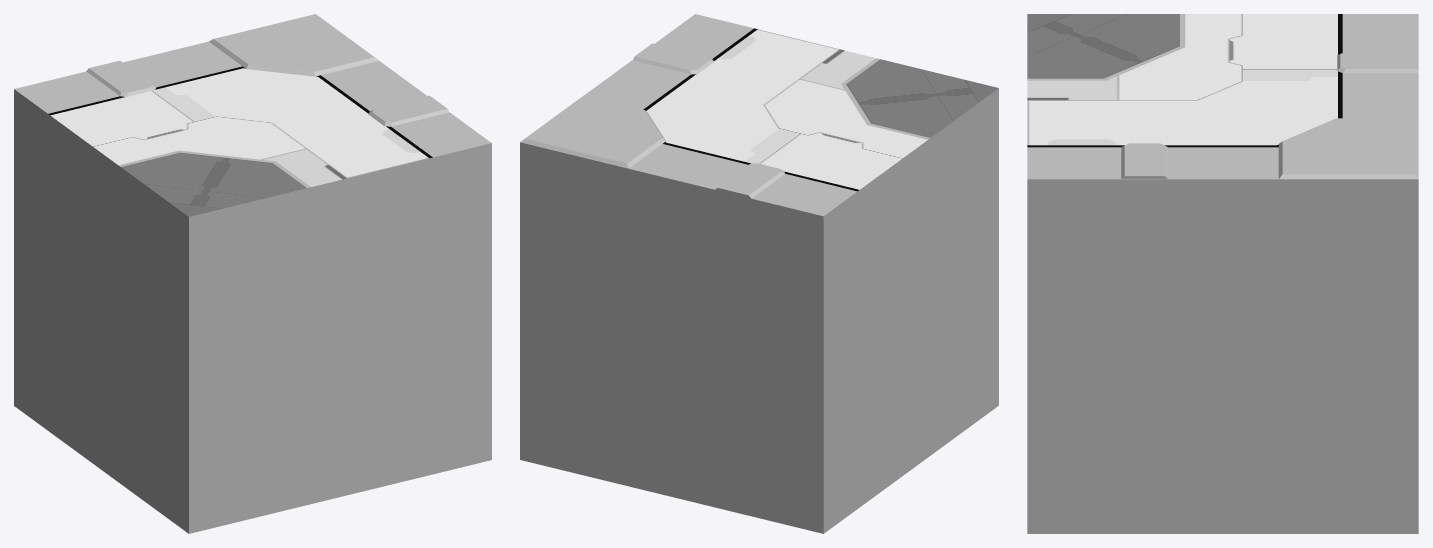
The model's file is SM_Floor_Interior_5x5_Corner_1.fbx.
The picture shows the model from 3 angles, left to right: view 1: azimuth 30°, elevation 25°; view 2: azimuth 150°, elevation 25°; view 3: azimuth 270°, elevation 25°; orthographic projection. The views are drawn at different scales.
Visible parts, largest first — view 1: SM_Floor_Interior_5x5_Corner_1; view 2: SM_Floor_Interior_5x5_Corner_1; view 3: SM_Floor_Interior_5x5_Corner_1.
Part boxes in pixels (x1,y1,x2,y2): SM_Floor_Interior_5x5_Corner_1: (14,14,491,533); SM_Floor_Interior_5x5_Corner_1: (520,14,998,533); SM_Floor_Interior_5x5_Corner_1: (1027,14,1418,533).
Size of the model in its own units: 500 by 505 by 500.
